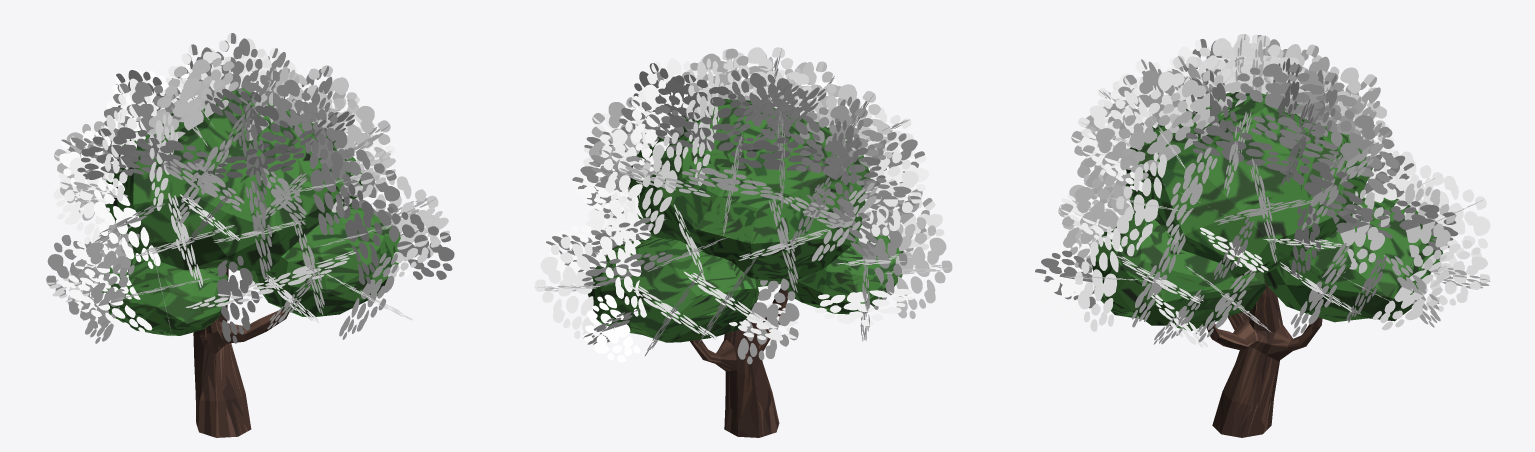
The model's file is GrassLandTrees.fbx.
The picture shows the model from 3 angles, left to right: view 1: azimuth 30°, elevation 25°; view 2: azimuth 150°, elevation 25°; view 3: azimuth 270°, elevation 25°; orthographic projection. The views are drawn at different scales.
Visible parts, largest first — view 1: Tree_01; view 2: Tree_01; view 3: Tree_01.
Boxes of the visible parts, box(x1,y1,x2,y2) form: Tree_01: box(46, 33, 454, 437); Tree_01: box(534, 47, 952, 437); Tree_01: box(1034, 34, 1490, 437).
Bounding box in the file's own units: 15.82 × 15.13 × 17.23.
2 materials, 2 textured.
